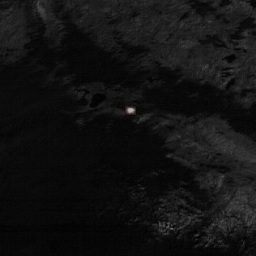Target: (124, 106, 135, 114)
